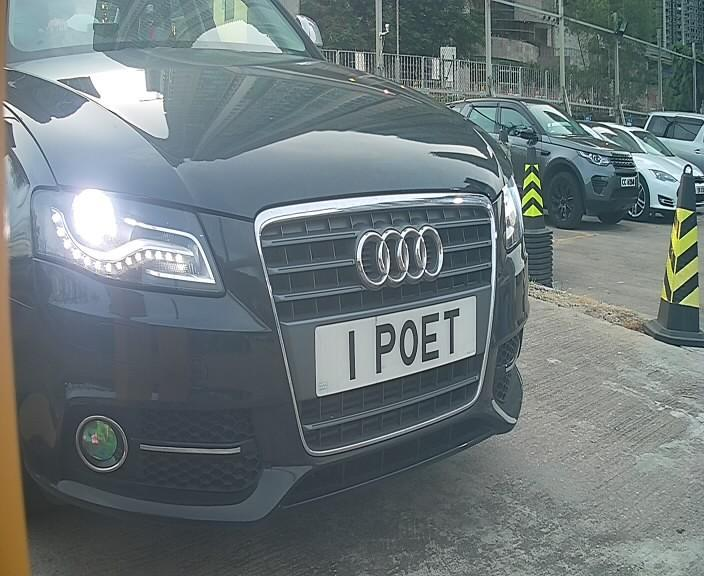privatecar: (10, 21, 544, 512)
